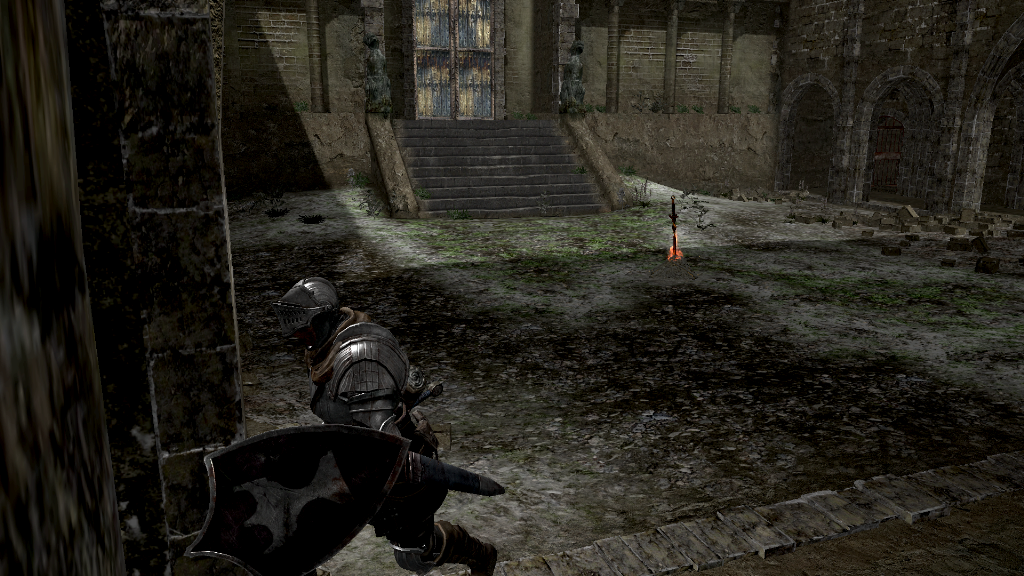bonfire: (666, 195, 686, 265)
player: (183, 272, 500, 576)
